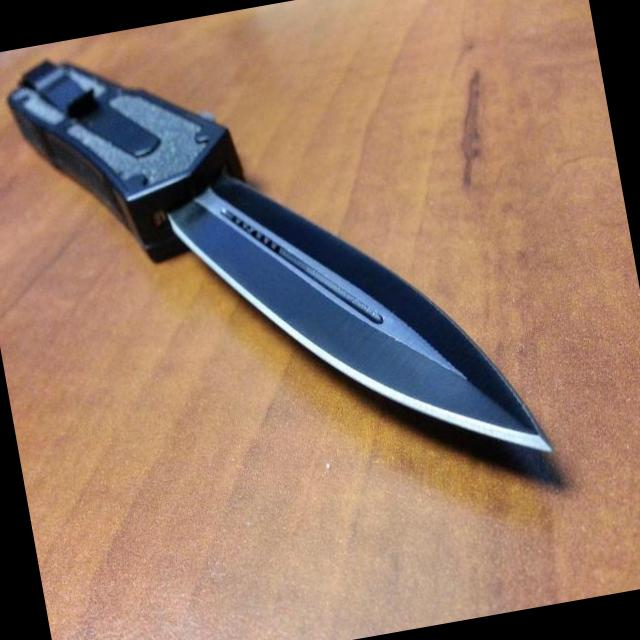Knife: (8, 60, 550, 451)
